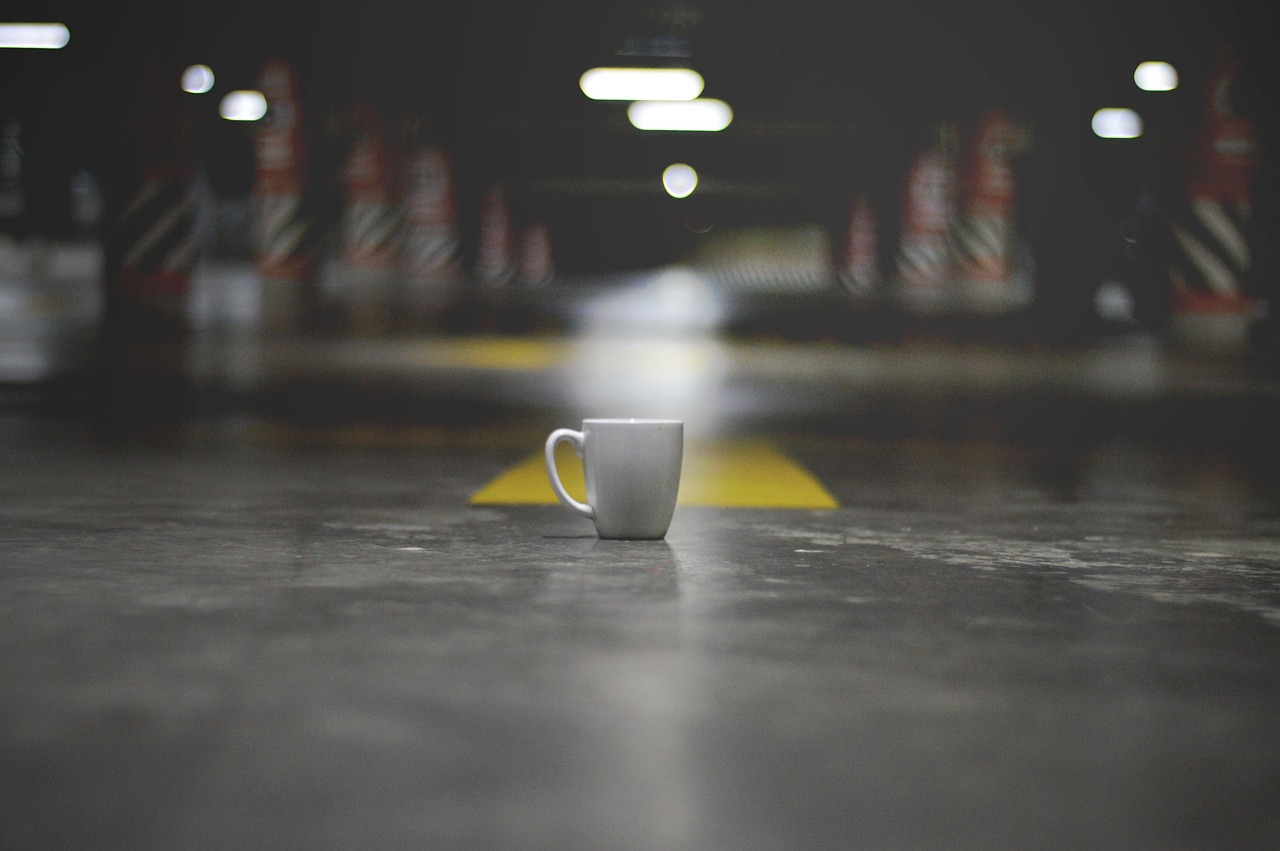mug: (424, 351, 789, 641)
